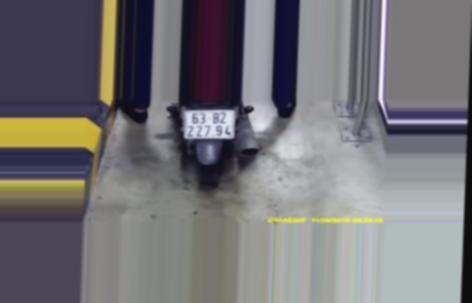License_Plate: (179, 106, 239, 144)
